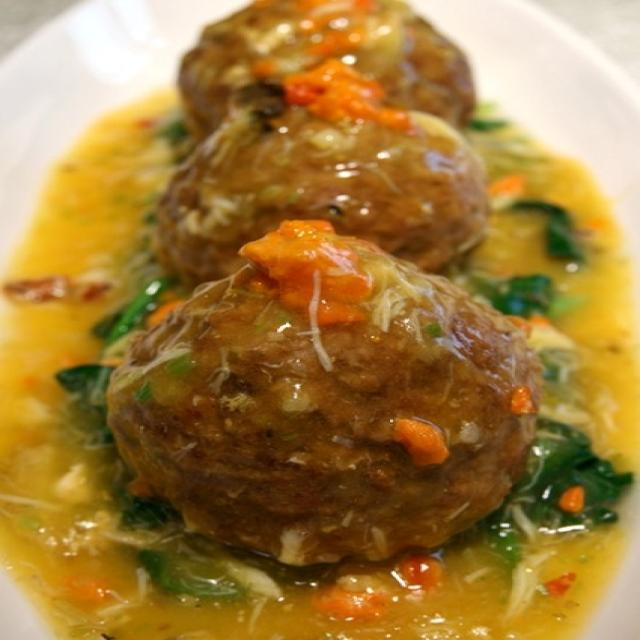猪肉菜式: (22, 18, 636, 615)
